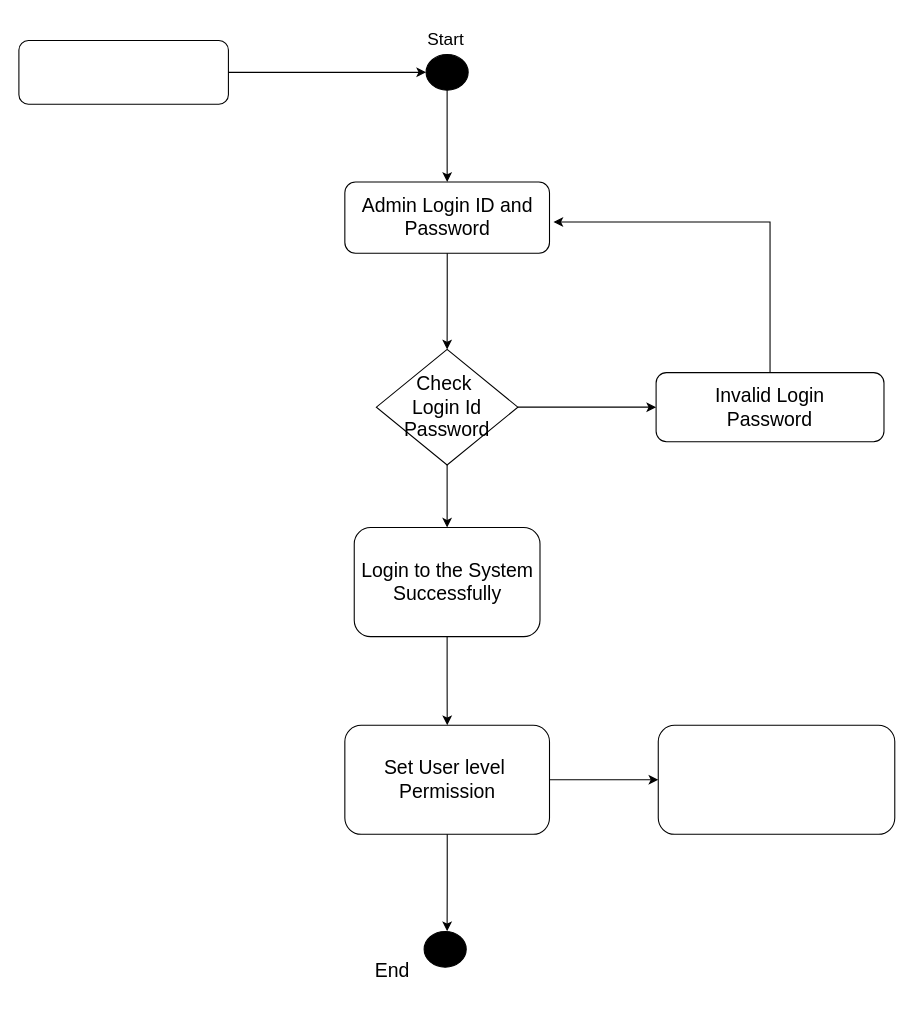
Image size: 914x1014. Some labels were removed from this diagram. Here are the shapes that lost their labels. From the top down, the centre of each, then its label:
At pixel 123 71: "Admin is Registered".
At pixel 776 779: "Access the Internal Functionality according to Permission".
